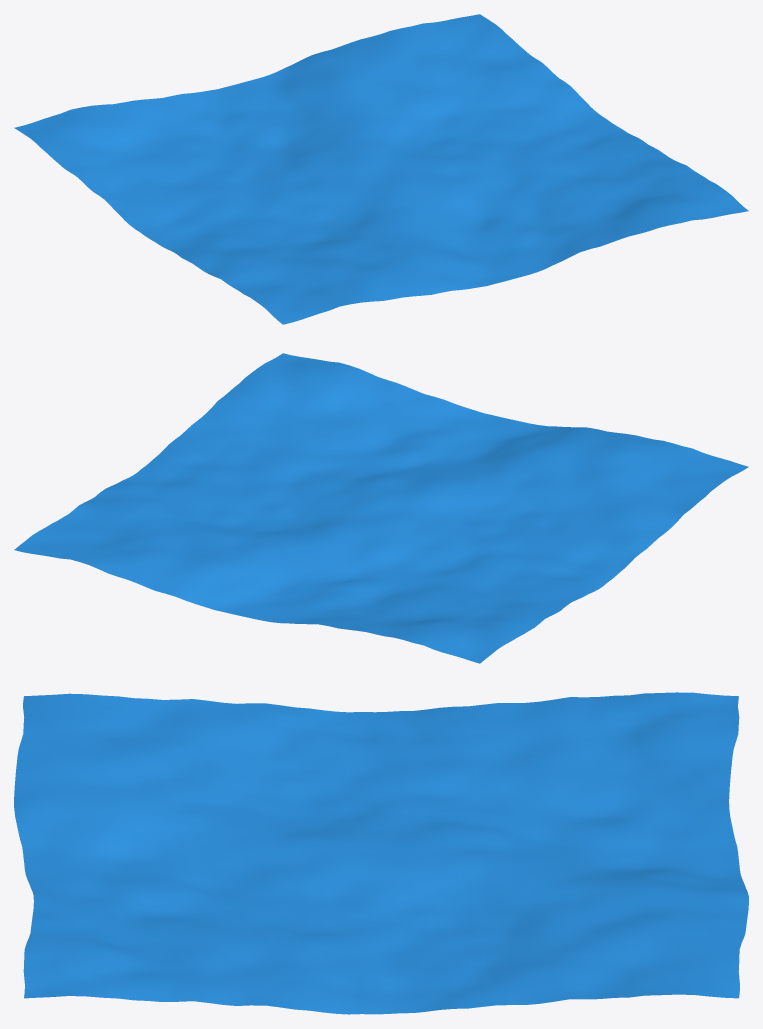
The model's file is Ocean04.fbx.
3 views of the same model, one above another, from view 1: azimuth 30°, elevation 25°; view 2: azimuth 150°, elevation 25°; view 3: azimuth 270°, elevation 25° (orthographic). The views are drawn at different scales.
Visible parts, largest first — view 1: ocean5; view 2: ocean5; view 3: ocean5.
Part boxes in pixels (box(x1,y1,x2,y2)): ocean5: box(14, 14, 748, 324); ocean5: box(14, 353, 748, 663); ocean5: box(14, 692, 748, 1014).
Bounding box in the file's own units: 33.46 × 1.29 × 34.04.
